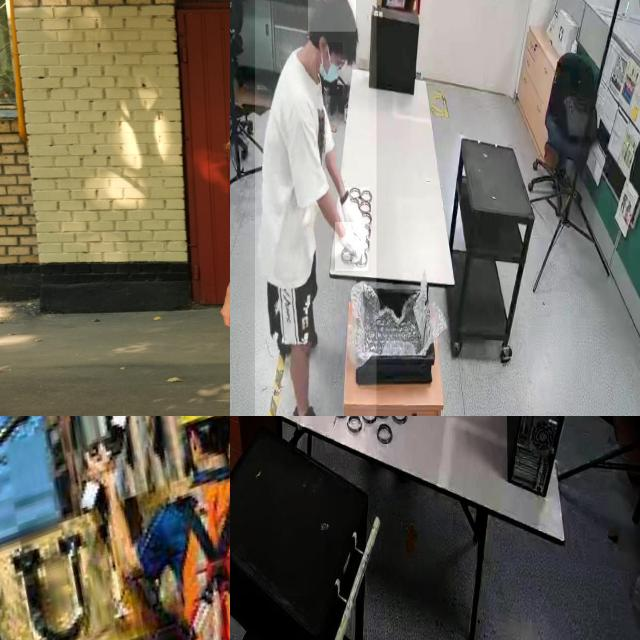Harness: (178, 496, 230, 630)
face_mask: (316, 42, 342, 96)
hand_glove: (335, 222, 369, 272), (340, 187, 369, 239)
head_nohelmet: (307, 0, 356, 32)
person: (255, 0, 377, 416)
shoes: (285, 395, 334, 416)
